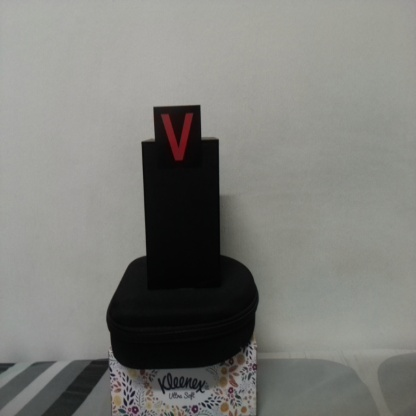id_11: (154, 107, 202, 167)
